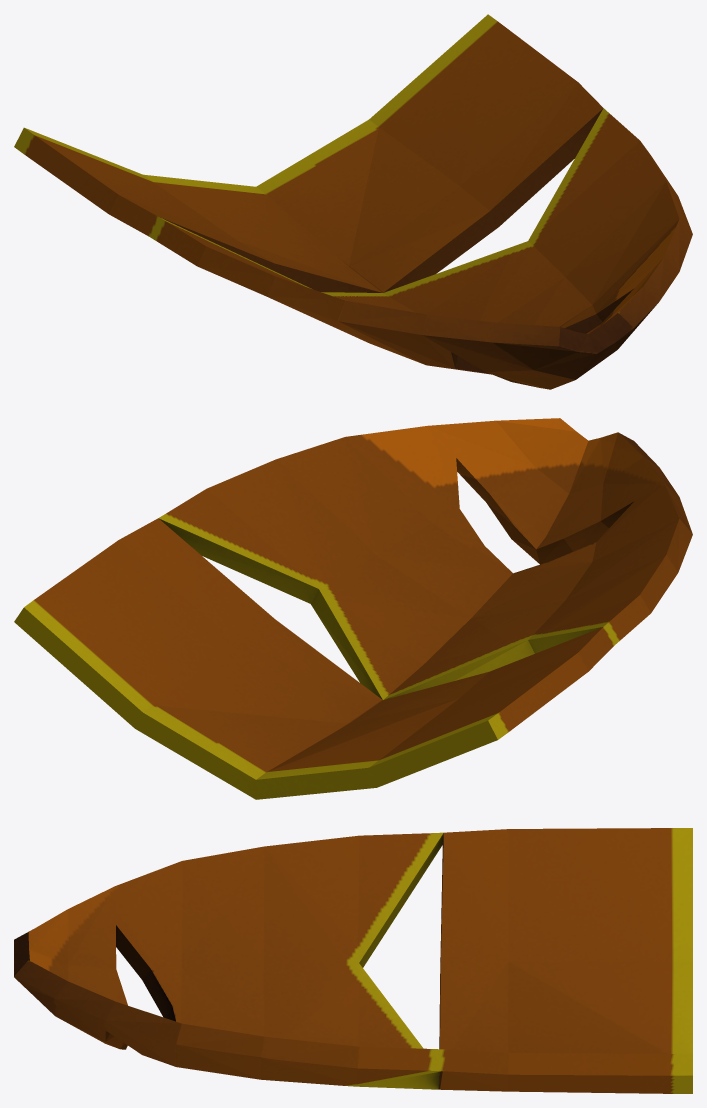
File: mask.obj
The picture shows the model from 3 angles, top to bottom: view 1: azimuth 30°, elevation 25°; view 2: azimuth 150°, elevation 25°; view 3: azimuth 270°, elevation 25°; orthographic projection.
Parts seen in each view (by area): view 1: Plane.002_Plane.004; view 2: Plane.002_Plane.004; view 3: Plane.002_Plane.004.
Boxes of the visible parts, x1,y1,x2,y2 form: Plane.002_Plane.004: (14, 14, 692, 389); Plane.002_Plane.004: (14, 418, 692, 799); Plane.002_Plane.004: (14, 828, 692, 1093).
Size of the model in its own units: 3.42 by 1.01 by 4.17.
Materials: 1 (1 with a texture image).
